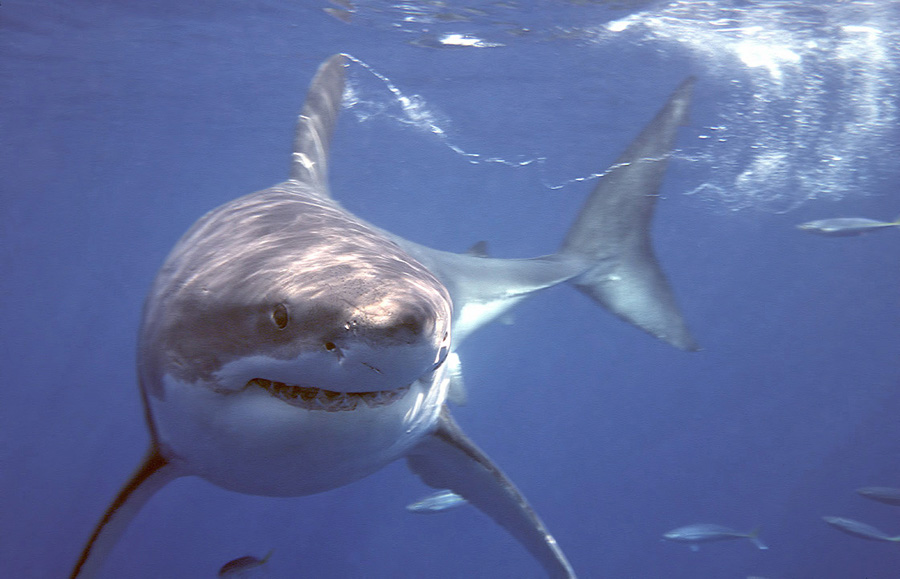Carcharodon_carcharias: (77, 108, 728, 579)
